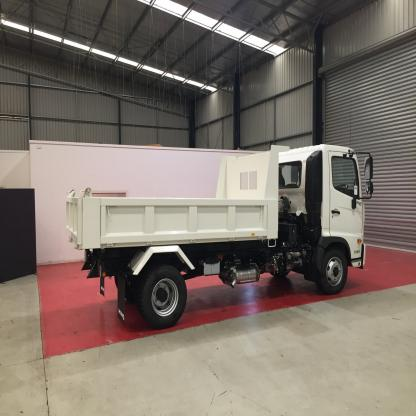dump_truck: (57, 132, 377, 315)
